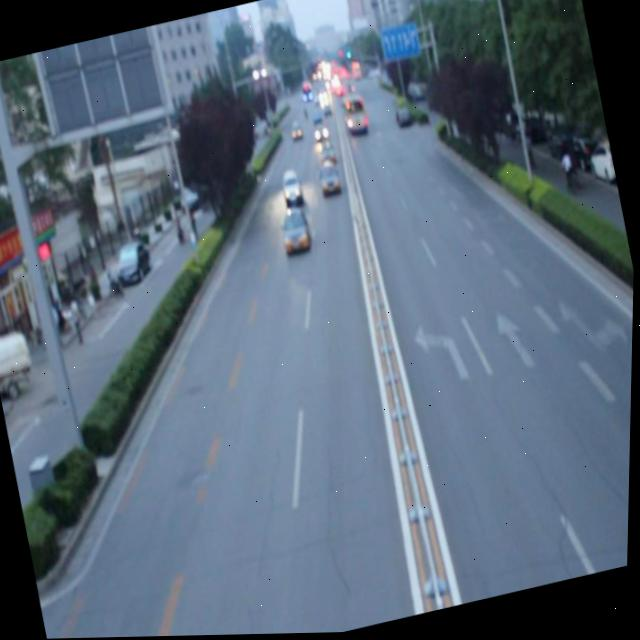car: (278, 205, 313, 255), (279, 169, 303, 206)
